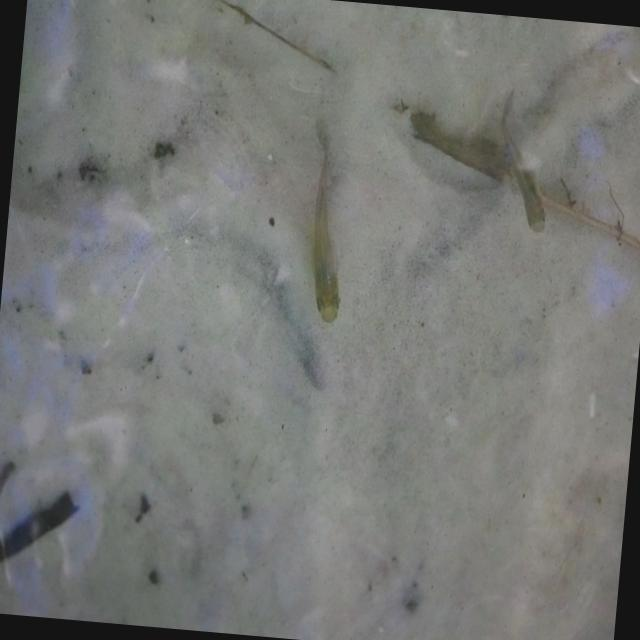Sivrisinek Baligi: (479, 91, 561, 241), (292, 137, 356, 324)
